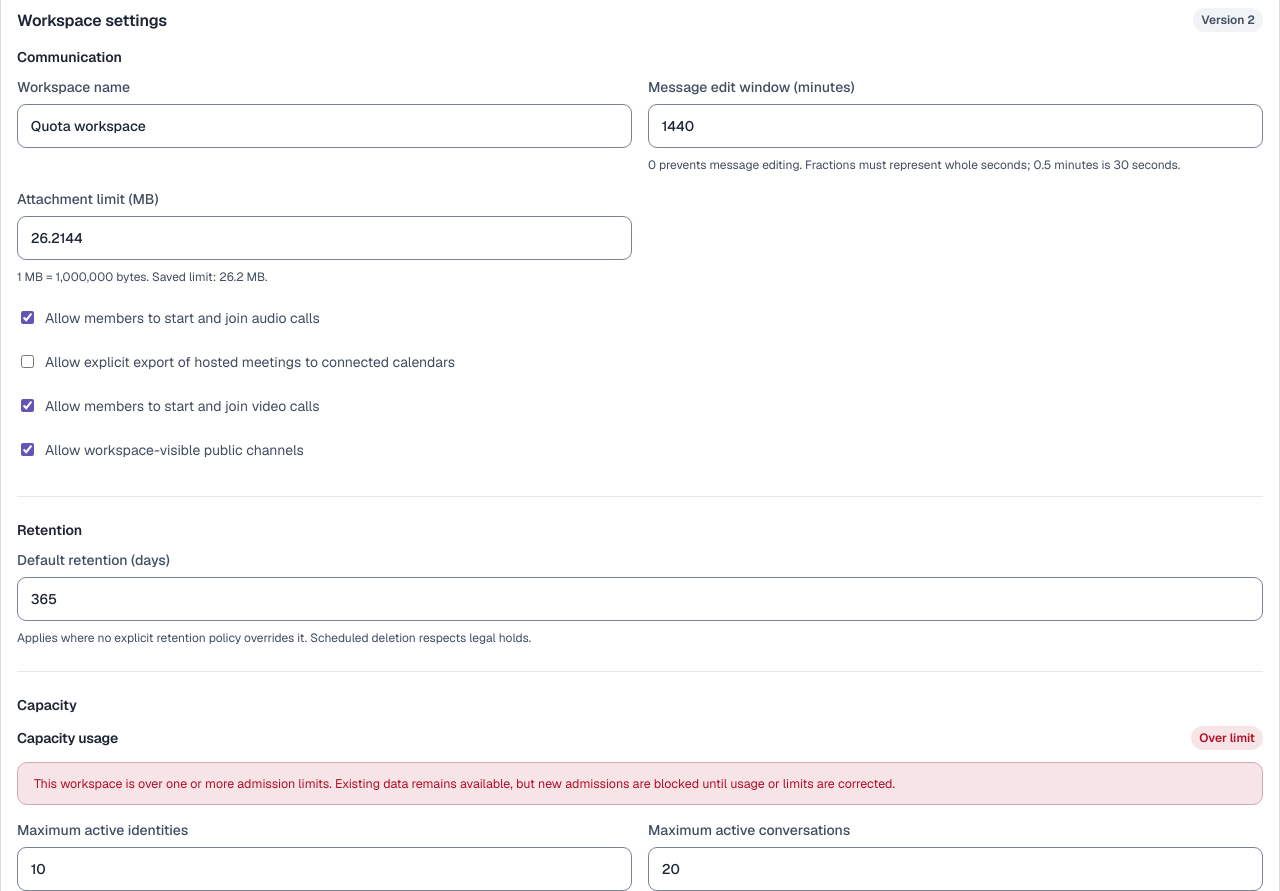
Scenario: TenantSettingsPanel › converts decimal human units exactly and reviews their impact before a versioned save
The image size is (1280, 891).
Check: the heading "Workspace settings" is shown, box left=17, top=10, right=167, bottom=30
Check: the element "Communication" is shown, box left=17, top=48, right=1263, bottom=497
Replace the text in the number field labelled "Message edit window (minutes)" with "2.5" at x=956, y=126, box left=648, top=104, right=1263, bottom=148
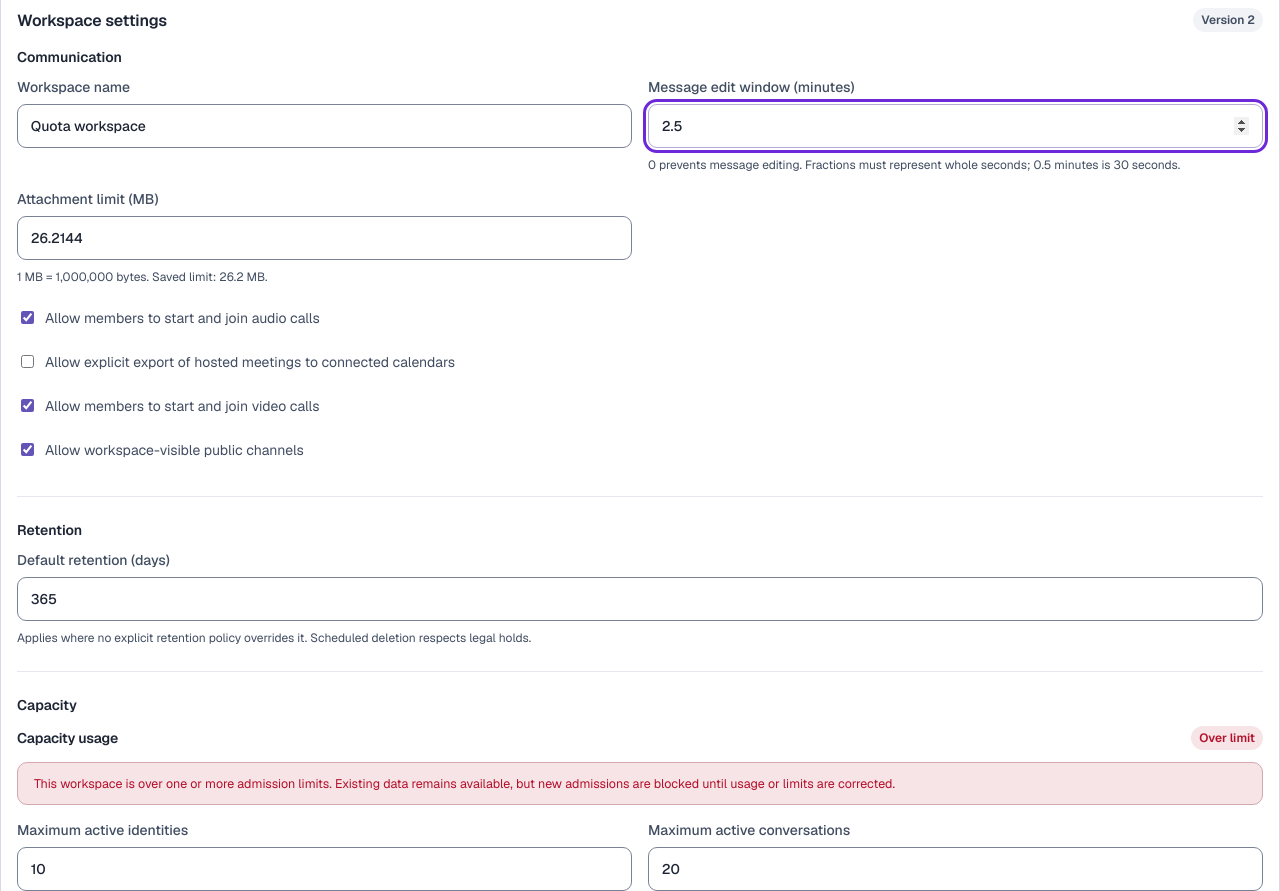
Replace the text in the number field labelled "Attachment limit (MB)" with "25.123457" at x=324, y=238, box left=17, top=216, right=632, bottom=260
(page scrolled)
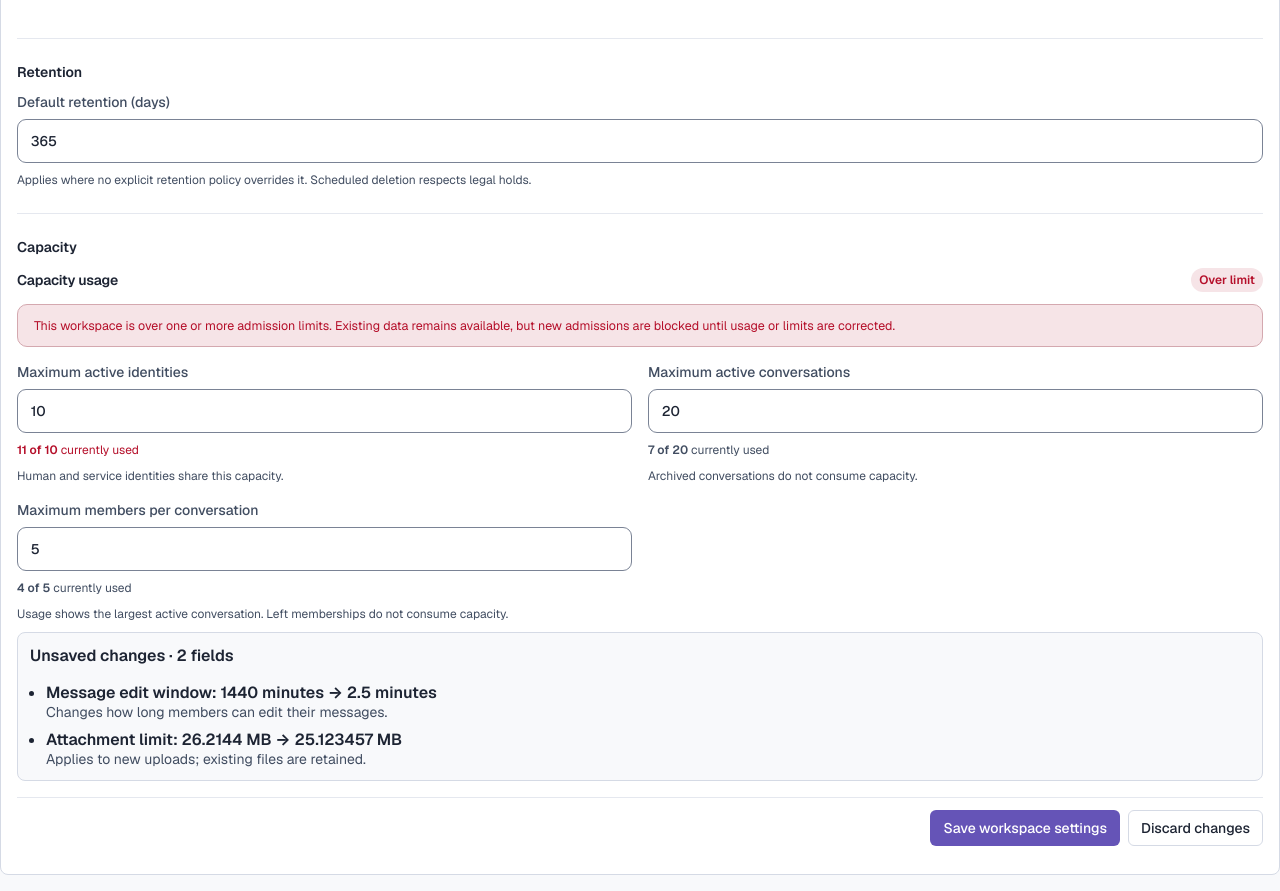
Check: the message "Unsaved changes · 2 fields" is shown, box left=30, top=645, right=234, bottom=666
Check: the element named "Changes to review" shows "existing files are retained", box left=46, top=750, right=366, bottom=768
Click the button "Save workspace settings" at x=1025, y=828, box left=930, top=810, right=1120, bottom=846
(page scrolled)
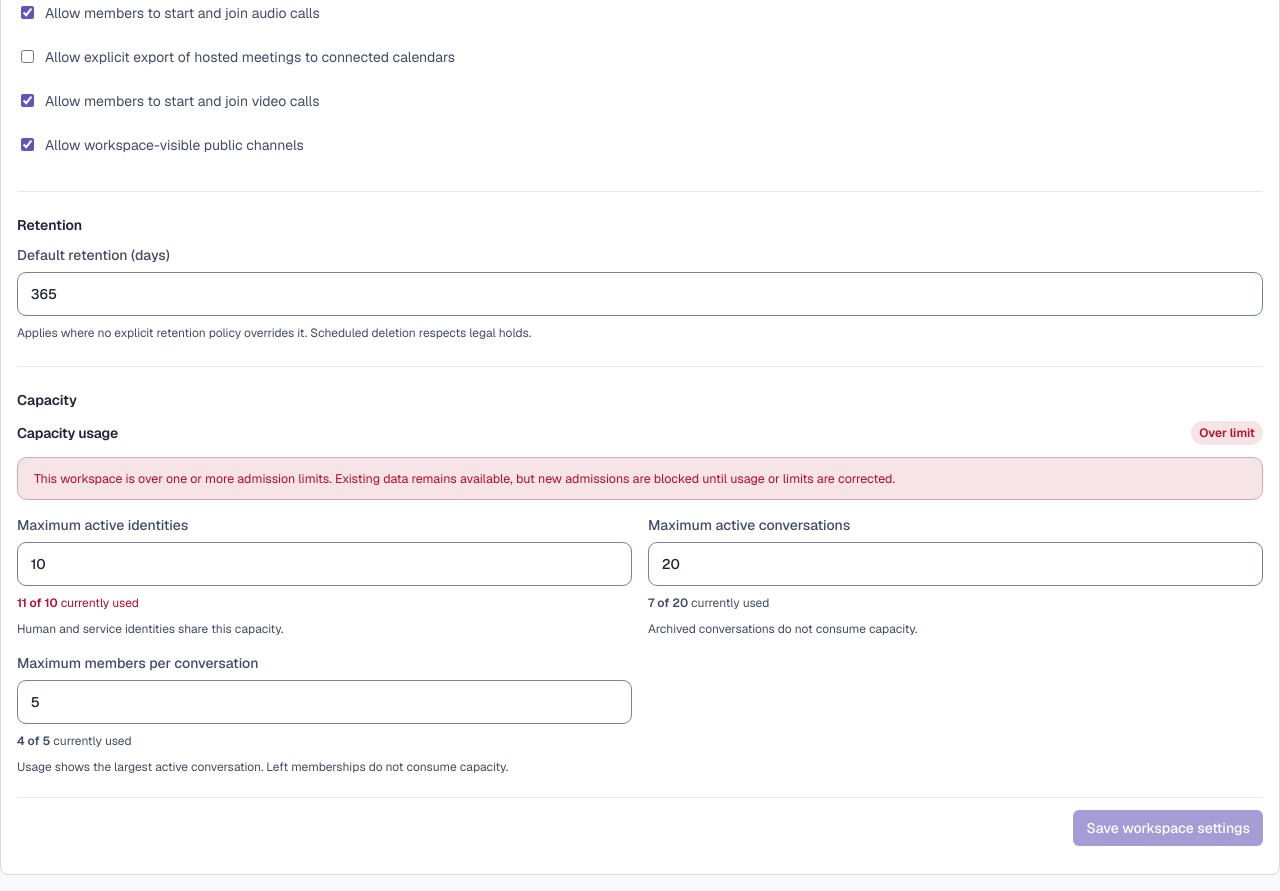
Check: the button "Save workspace settings" is disabled, box left=1073, top=810, right=1263, bottom=846
